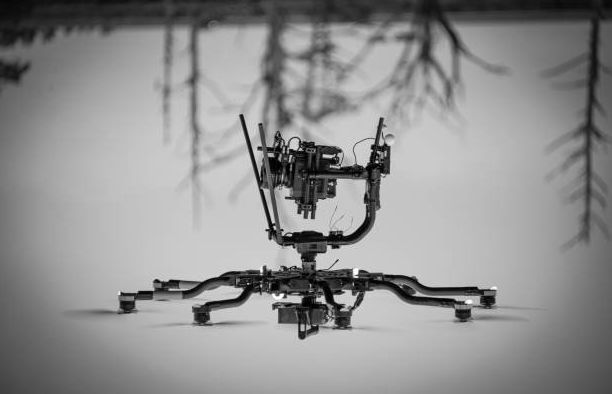Drone: (57, 107, 546, 340)
